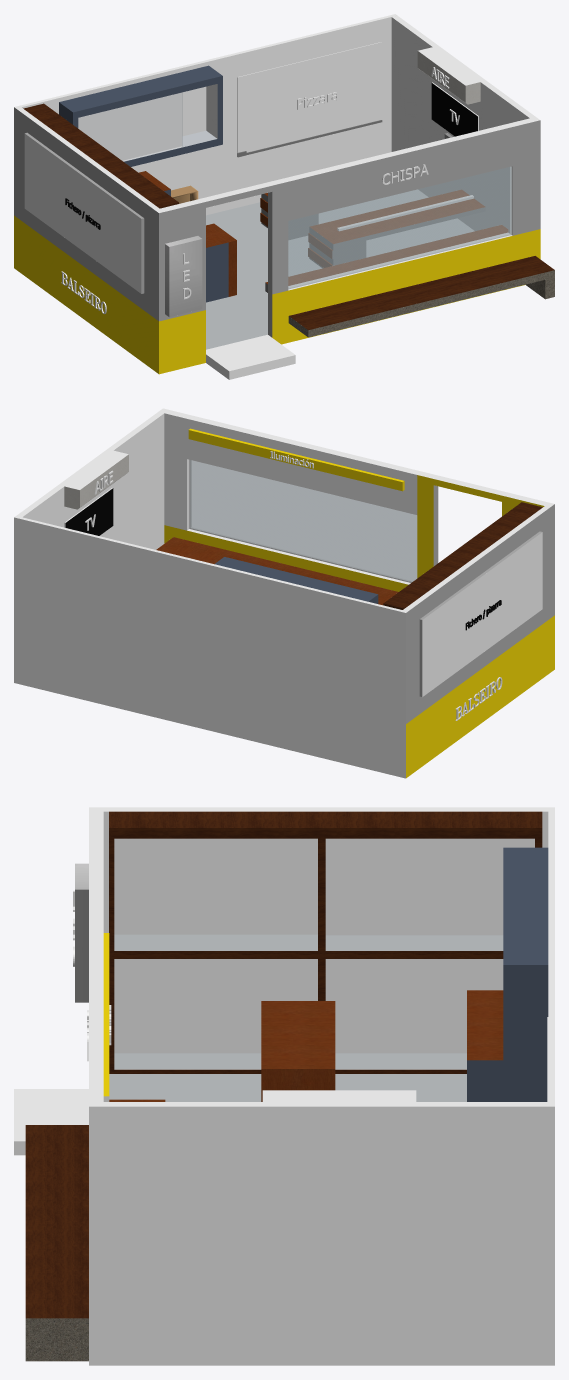
3 views of the same model, one above another, from view 1: azimuth 30°, elevation 25°; view 2: azimuth 150°, elevation 25°; view 3: azimuth 270°, elevation 25° (orthographic). The views are drawn at different scales.
Parts seen in each view (by area): view 1: n0_g0, n0_g3, n0_g9, n0_g1, n0_g10, n0_g7, n0_g20, n0_g4, n0_g6, n0_g8, n0_g16, n0_g12 (+4 smaller); view 2: n0_g0, n0_g9, n0_g1, n0_g10, n0_g20, n0_g3, n0_g4, n0_g6, n0_g8, n0_g18, n0_g15, n0_g2; view 3: n0_g0, n0_g2, n0_g4, n0_g7, n0_g8, n0_g6, n0_g12, n0_g16, n0_g1.
Part boxes in pixels (x1=…): n0_g0: x1=14, y1=14, x2=539, y2=379; n0_g3: x1=14, y1=107, x2=540, y2=337; n0_g9: x1=78, y1=92, x2=511, y2=288; n0_g1: x1=14, y1=215, x2=540, y2=374; n0_g10: x1=289, y1=167, x2=510, y2=288; n0_g7: x1=206, y1=189, x2=474, y2=349; n0_g20: x1=24, y1=134, x2=141, y2=293; n0_g4: x1=23, y1=103, x2=554, y2=330; n0_g6: x1=139, y1=171, x2=507, y2=296; n0_g8: x1=59, y1=65, x2=228, y2=302; n0_g16: x1=165, y1=236, x2=202, y2=317; n0_g12: x1=288, y1=270, x2=554, y2=337; n0_g0: x1=14, y1=408, x2=554, y2=778; n0_g9: x1=189, y1=460, x2=416, y2=582; n0_g1: x1=164, y1=428, x2=554, y2=778; n0_g10: x1=191, y1=460, x2=416, y2=581; n0_g20: x1=422, y1=532, x2=542, y2=696; n0_g3: x1=406, y1=485, x2=554, y2=723; n0_g4: x1=383, y1=502, x2=542, y2=609; n0_g6: x1=156, y1=537, x2=398, y2=605; n0_g8: x1=214, y1=557, x2=378, y2=603; n0_g18: x1=65, y1=488, x2=113, y2=535; n0_g15: x1=64, y1=454, x2=128, y2=509; n0_g2: x1=189, y1=459, x2=411, y2=582; n0_g0: x1=14, y1=807, x2=554, y2=1365; n0_g2: x1=114, y1=838, x2=503, y2=1053; n0_g4: x1=25, y1=811, x2=542, y2=1318; n0_g7: x1=109, y1=934, x2=503, y2=1101; n0_g8: x1=467, y1=847, x2=548, y2=1101; n0_g6: x1=109, y1=990, x2=503, y2=1101; n0_g12: x1=25, y1=1318, x2=88, y2=1361; n0_g16: x1=75, y1=863, x2=88, y2=1002; n0_g1: x1=103, y1=933, x2=109, y2=1096.
Size of the model in its own units: 9262 by 3701 by 7009.
Materials: 22 (7 with a texture image).
